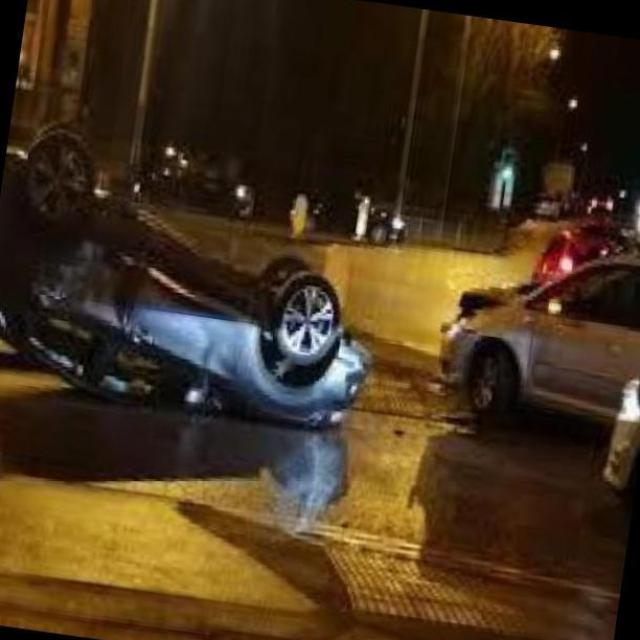accident: (0, 114, 402, 442)
